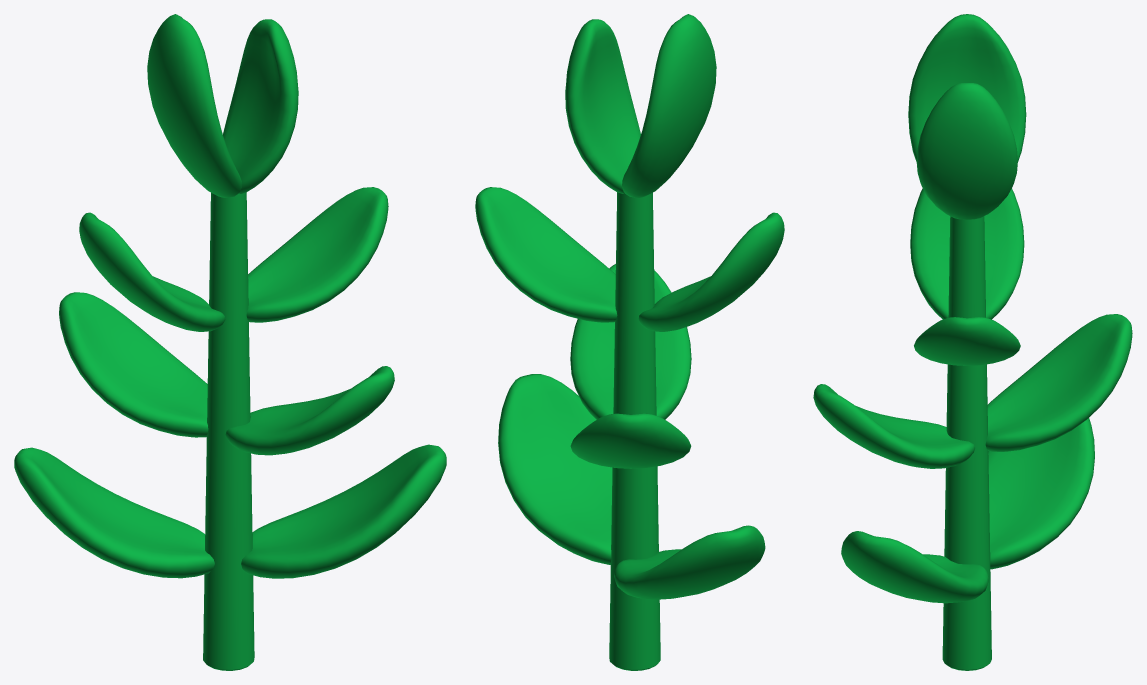
The model's file is Farm_12_Sprout_3.glb.
The picture shows the model from 3 angles, left to right: view 1: azimuth 30°, elevation 25°; view 2: azimuth 150°, elevation 25°; view 3: azimuth 270°, elevation 25°; orthographic projection. The views are drawn at different scales.
Visible parts, largest first — view 1: Farm_12_Sprout_3; view 2: Farm_12_Sprout_3; view 3: Farm_12_Sprout_3.
Part boxes in pixels (<box>): Farm_12_Sprout_3: <box>14,14,446,670</box>; Farm_12_Sprout_3: <box>475,14,784,670</box>; Farm_12_Sprout_3: <box>813,14,1132,670</box>.
Bounding box in the file's own units: 0.32 × 0.6038 × 0.2801.
Materials: 1 (1 with a texture image).
